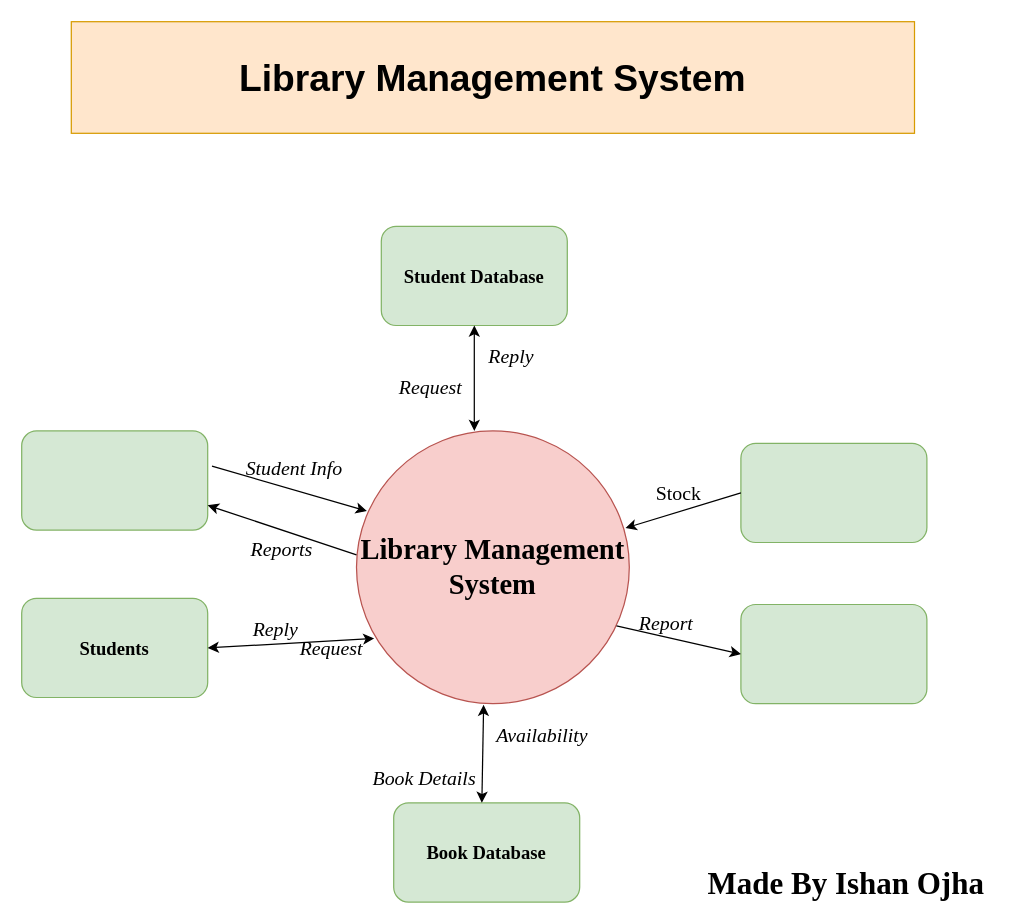
Some shapes in this 1011 by 924 pixel diagram are drawn without their labels. The centre of each missing label's shape, as x and y in pixels:
Management: point 833,653
Staff: point 114,480
Supplier: point 833,492
